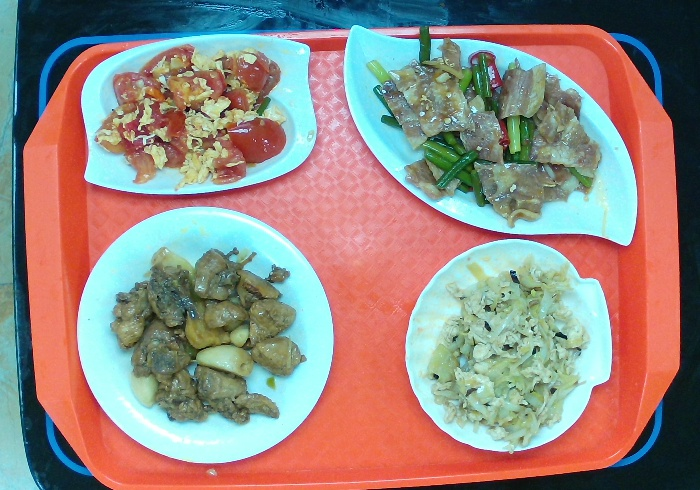RJxy-Bei_Ke_Wan: (398, 233, 620, 462)
RJxy-Jian_Jiao_Fang_Die: (69, 27, 322, 208)
RJxy-Jian_Jiao_Pan: (335, 19, 644, 253)
RJxy-Yuan_Pan: (70, 197, 342, 470)
